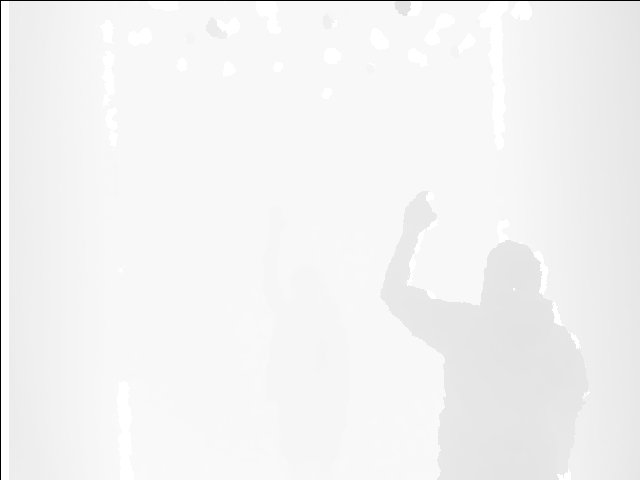hand: (401, 189, 441, 238), (262, 203, 286, 235)
